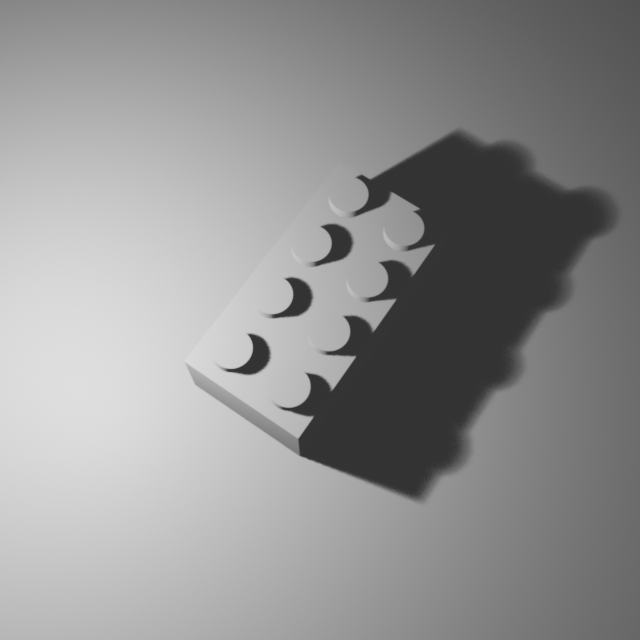lego_2x4: (182, 154, 450, 456)
